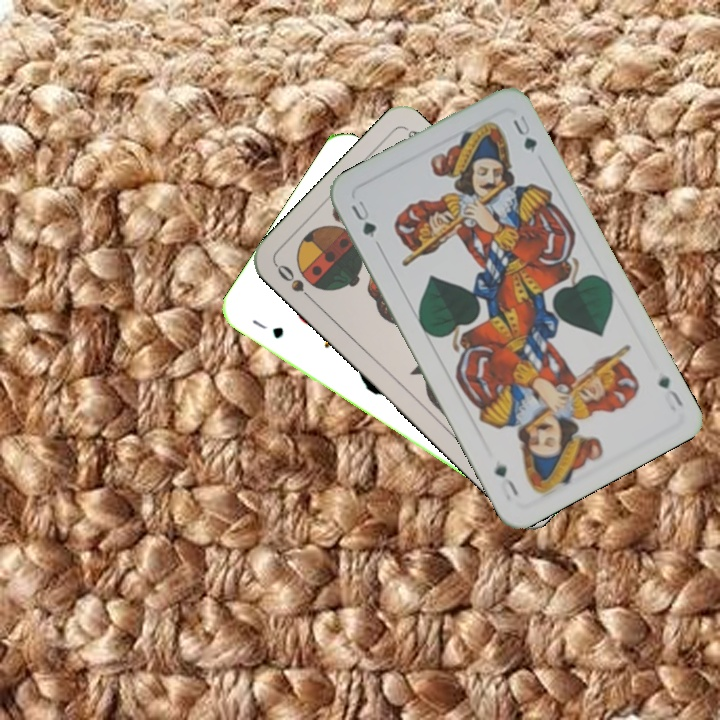GU: (346, 196, 379, 241), (654, 370, 686, 412), (248, 315, 287, 342)
SO: (271, 260, 319, 307)
